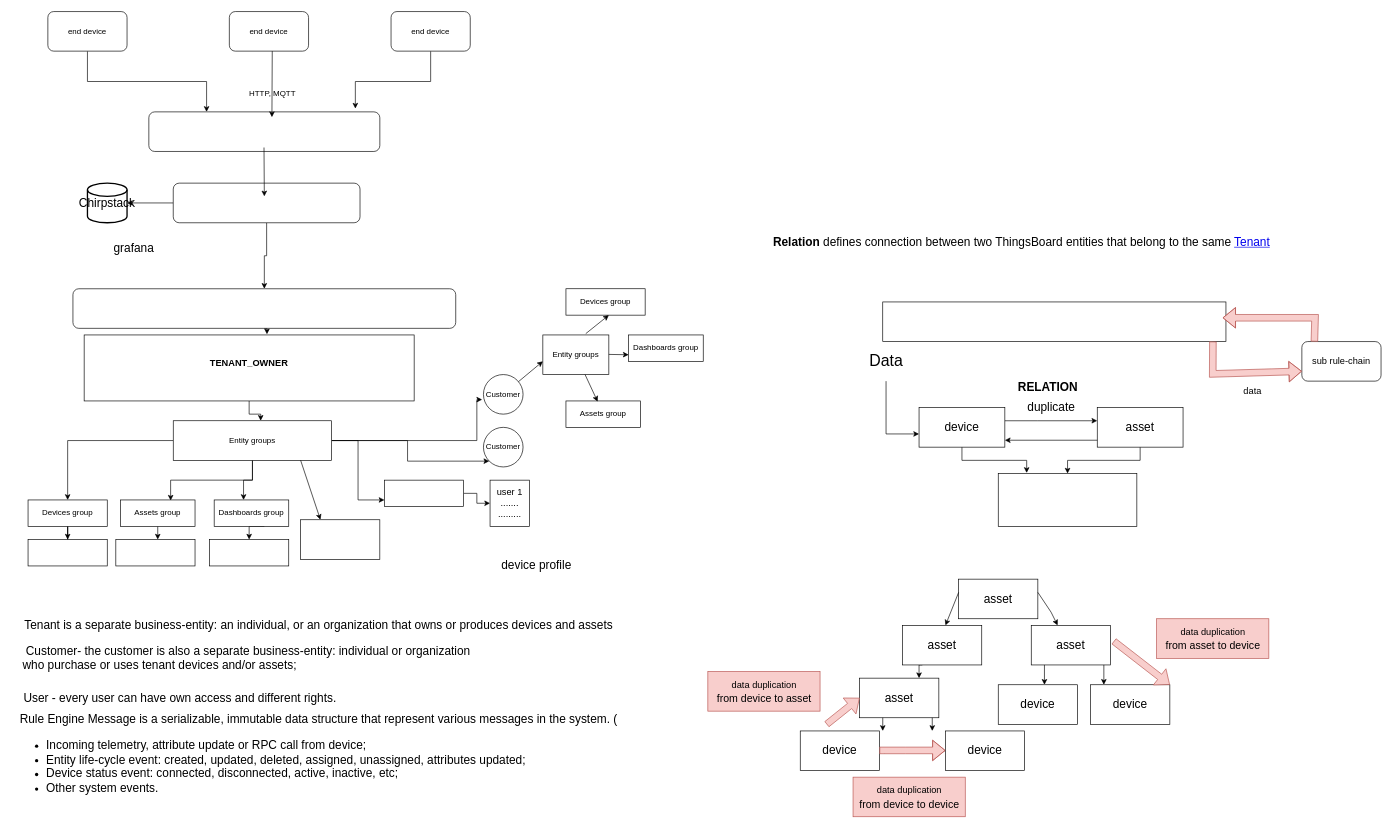
This 1393x828 diagram has some shape labels left out. Here are the shapes that lost their labels. From the top down, the box of each, then its label:
(148, 111, 380, 151): LoRaWAN Gateway
(173, 182, 360, 223): Grafana...
(72, 288, 456, 328): THINGSBOARD
(882, 301, 1226, 342): Root rule-chain
(384, 479, 464, 507): users group
(998, 473, 1137, 526): to save in time-series; to save in attributes
(27, 539, 107, 566): Devices...
(115, 539, 195, 566): Assets...
(209, 539, 289, 566): Dashboards...
(300, 519, 380, 559): Rule-chains Alarms
